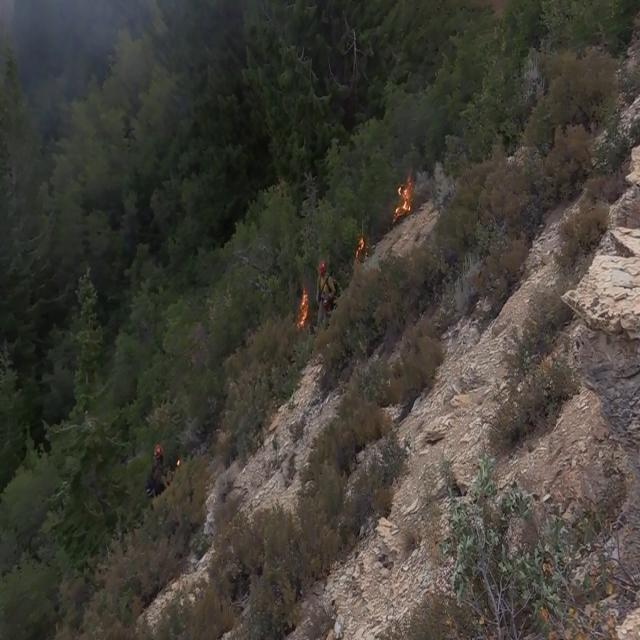Fire: (290, 161, 416, 339)
